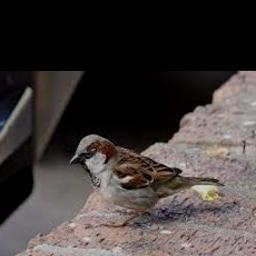Sparrow: (69, 133, 224, 226)
